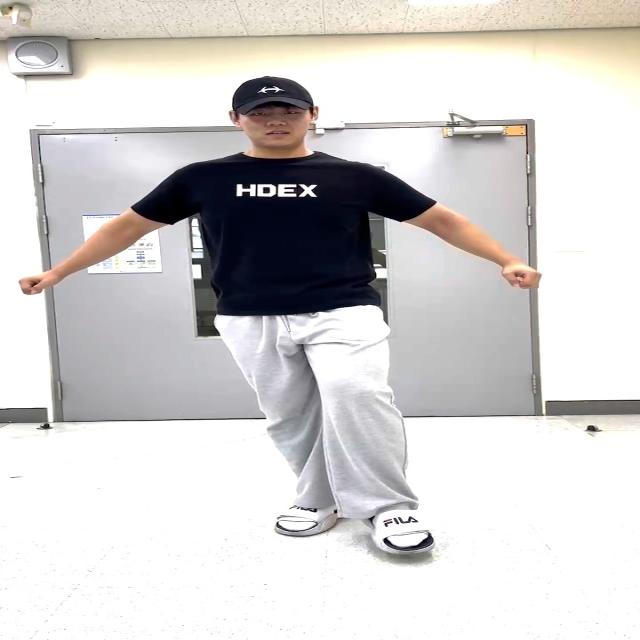leg: (316, 318, 438, 550)
